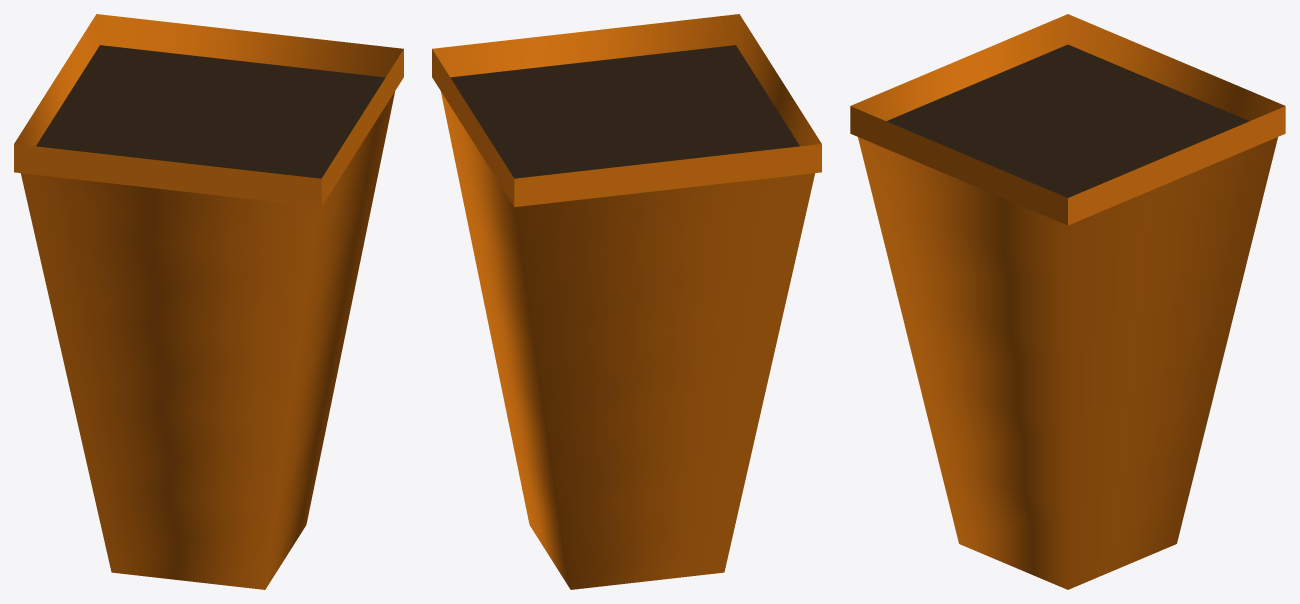
File: plant.obj
3 renders of one model, left to right at view 1: azimuth 30°, elevation 25°; view 2: azimuth 150°, elevation 25°; view 3: azimuth 270°, elevation 25°, orthographic. The views are drawn at different scales.
Parts seen in each view (by area): view 1: polySurface1863 polySurface1862; view 2: polySurface1863 polySurface1862; view 3: polySurface1863 polySurface1862.
Part boxes in pixels (x1,y1,x2,y2): polySurface1863 polySurface1862: [14, 14, 403, 589]; polySurface1863 polySurface1862: [432, 14, 821, 589]; polySurface1863 polySurface1862: [850, 14, 1285, 589].
Size of the model in its own units: 0.5159 by 0.5722 by 0.5159.
2 materials, 2 textured.
